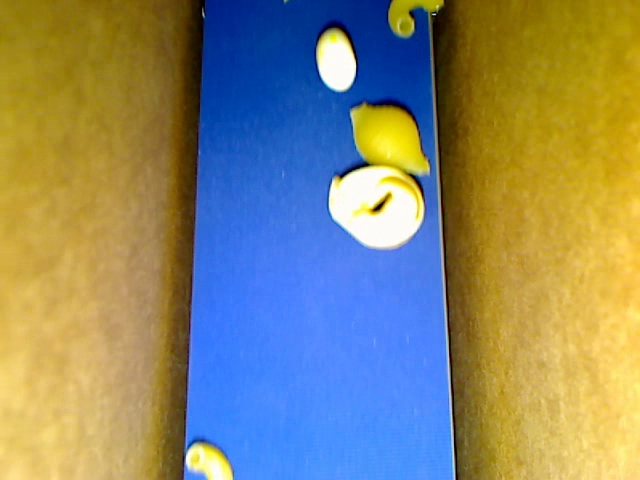elbow: (388, 1, 443, 38), (185, 440, 234, 479)
shell: (350, 102, 430, 176)
tortellini: (328, 166, 424, 249)
